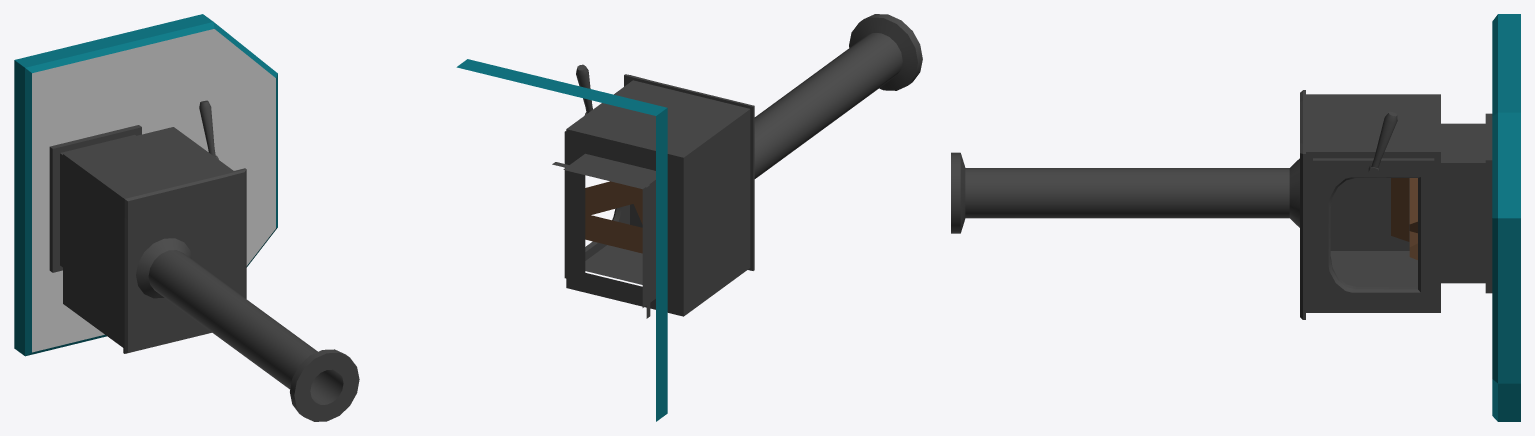
File: wood_stove.glb
3 views of the same model, side by side, from view 1: azimuth 30°, elevation 25°; view 2: azimuth 150°, elevation 25°; view 3: azimuth 270°, elevation 25° (orthographic). The views are drawn at different scales.
Visible parts, largest first — view 1: wood_stove; view 2: wood_stove; view 3: wood_stove.
Boxes of the visible parts, <box> form: wood_stove: <box>14,14,359,421</box>; wood_stove: <box>456,14,922,421</box>; wood_stove: <box>951,14,1520,421</box>.
Bounding box in the file's own units: 1.39 × 1.52 × 2.54.
